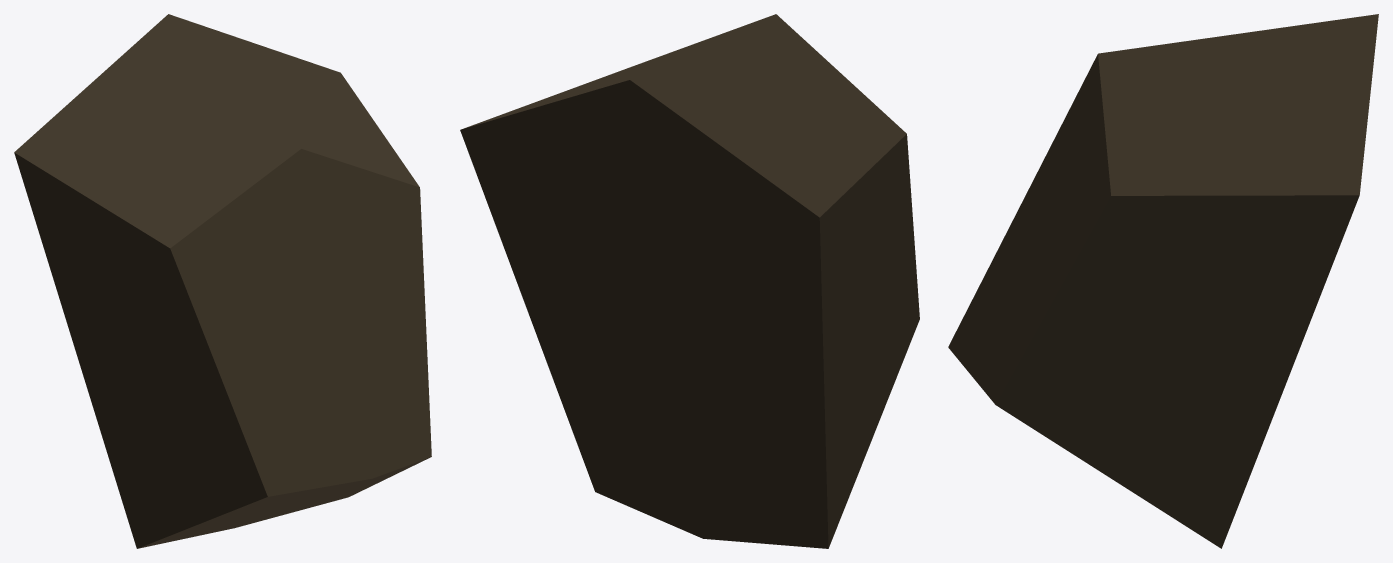
Rendered from SM_Chr_Attach_Beard_02_Patch.fbx.
3 renders of one model, left to right at view 1: azimuth 30°, elevation 25°; view 2: azimuth 150°, elevation 25°; view 3: azimuth 270°, elevation 25°, orthographic. The views are drawn at different scales.
Visible parts, largest first — view 1: SM_Chr_Attach_Beard_02_Patch; view 2: SM_Chr_Attach_Beard_02_Patch; view 3: SM_Chr_Attach_Beard_02_Patch.
Boxes of the visible parts, x1,y1,x2,y2 form: SM_Chr_Attach_Beard_02_Patch: (14, 14, 431, 548); SM_Chr_Attach_Beard_02_Patch: (460, 14, 919, 548); SM_Chr_Attach_Beard_02_Patch: (948, 14, 1378, 548).
Bounding box in the file's own units: 3.32 × 4.52 × 3.59.
